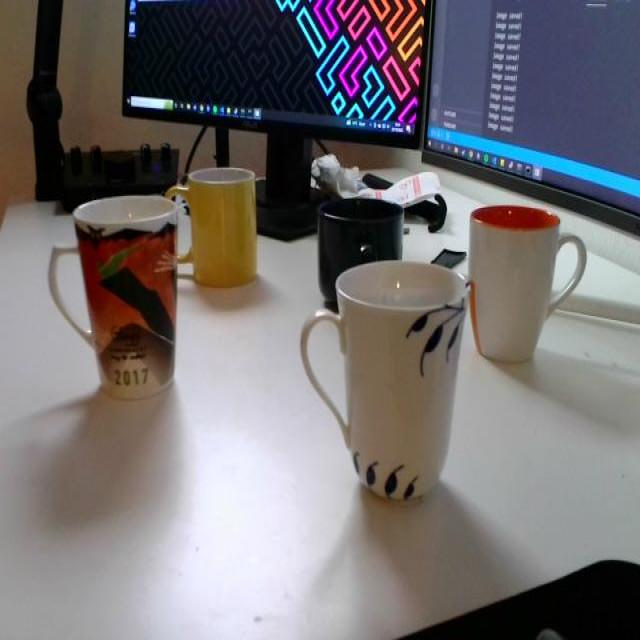cup: (302, 252, 473, 522), (44, 190, 202, 403), (466, 192, 596, 373), (165, 170, 280, 300), (312, 182, 412, 320)
